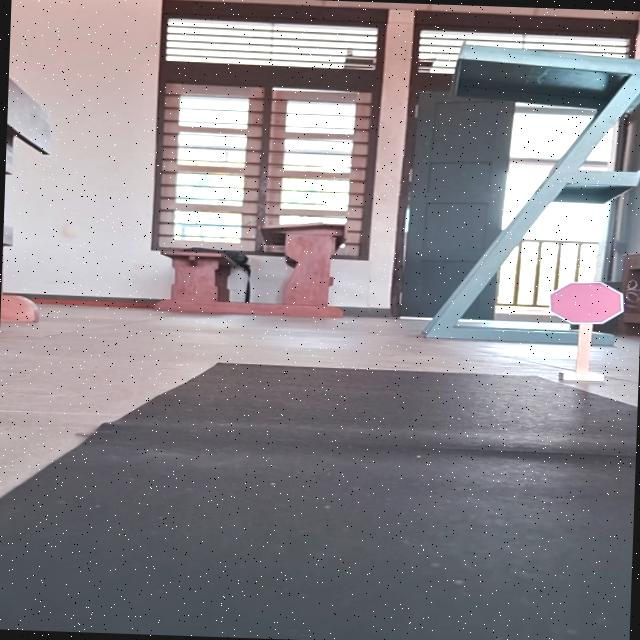Stop: (544, 279, 625, 326)
